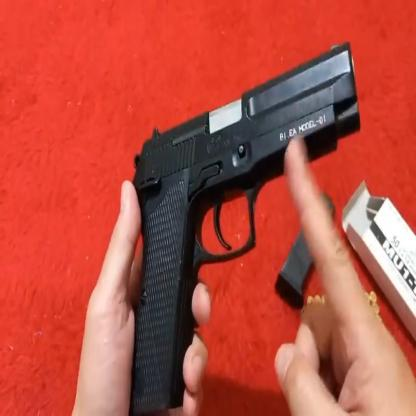handgun: (122, 30, 361, 416)
